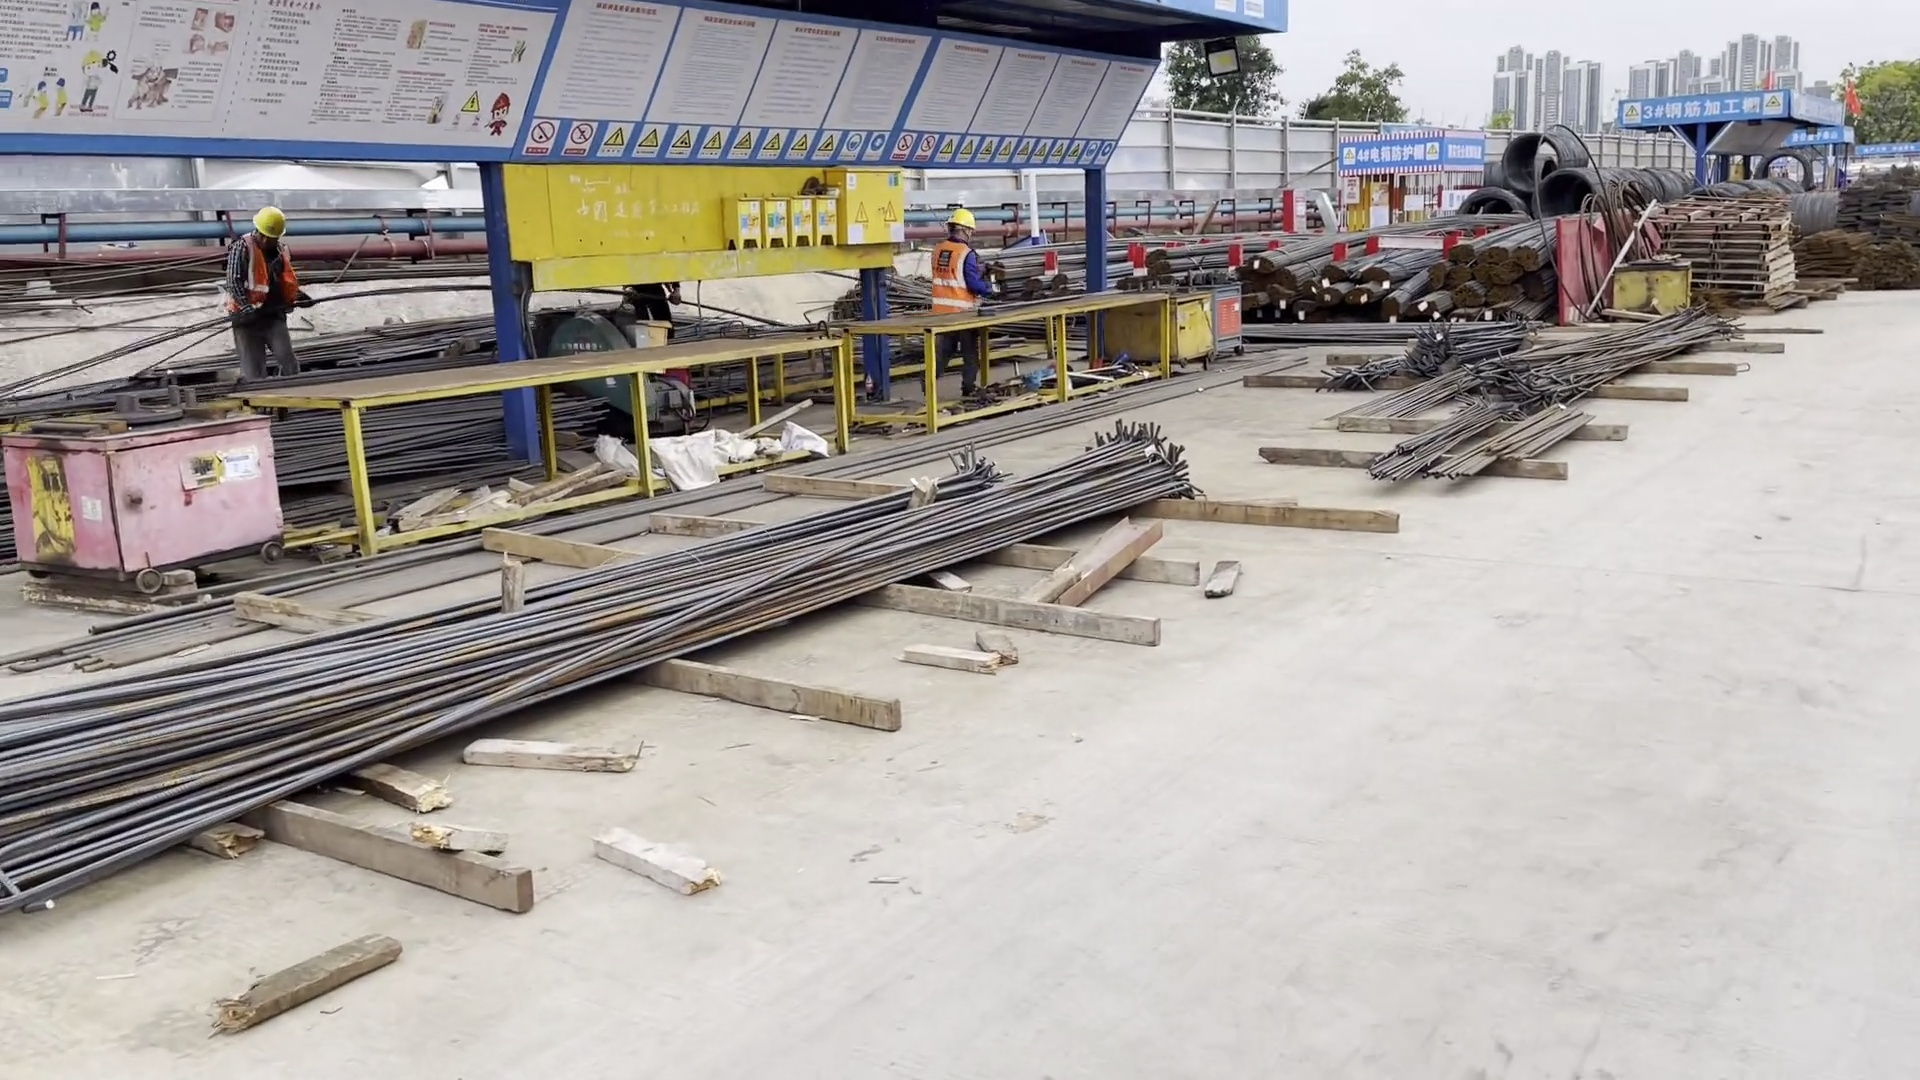ebox: (834, 169, 904, 248)
helmet: (245, 205, 284, 234), (947, 206, 974, 226)
person: (217, 204, 311, 375), (915, 204, 993, 316)
rebar: (1, 398, 1175, 931), (1460, 311, 1721, 411), (1252, 209, 1531, 274), (992, 234, 1266, 280), (1386, 408, 1547, 478), (973, 225, 1192, 267), (995, 269, 1261, 291), (1327, 239, 1431, 284), (1450, 212, 1553, 257), (1368, 244, 1461, 287), (1485, 219, 1564, 259), (1522, 224, 1569, 274), (1377, 287, 1404, 320), (1454, 283, 1489, 308), (1409, 291, 1443, 315), (1268, 287, 1292, 316), (1342, 283, 1369, 309), (1291, 298, 1315, 324), (1318, 287, 1345, 309), (1305, 278, 1326, 297)
vest: (227, 237, 293, 318), (929, 238, 982, 314)
